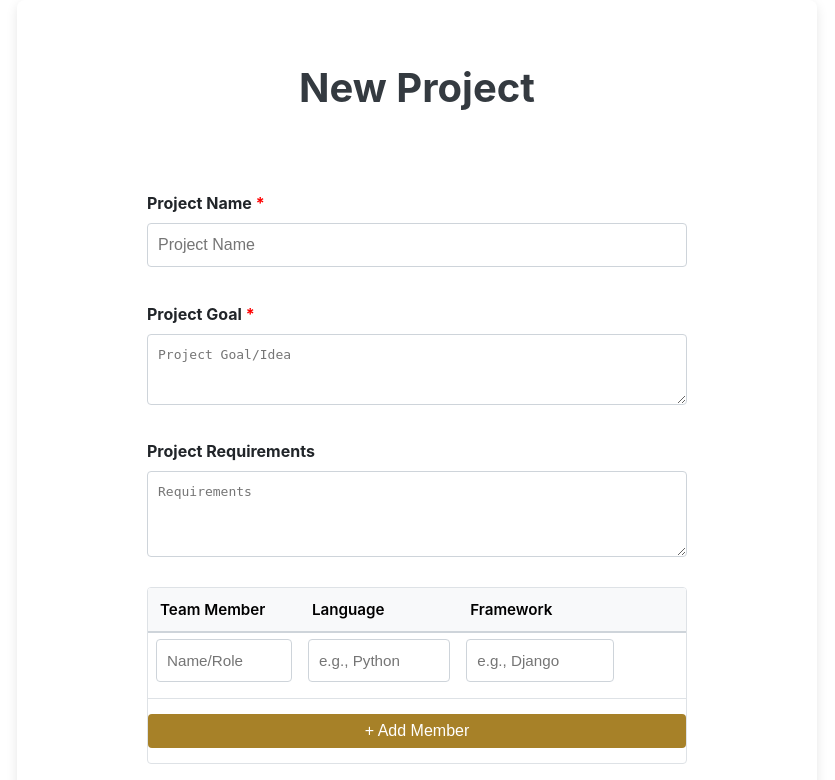
Test: can add and remove team member rows
Click the button "+ Add Member".
click(417, 731)  # box left=148, top=714, right=686, bottom=748
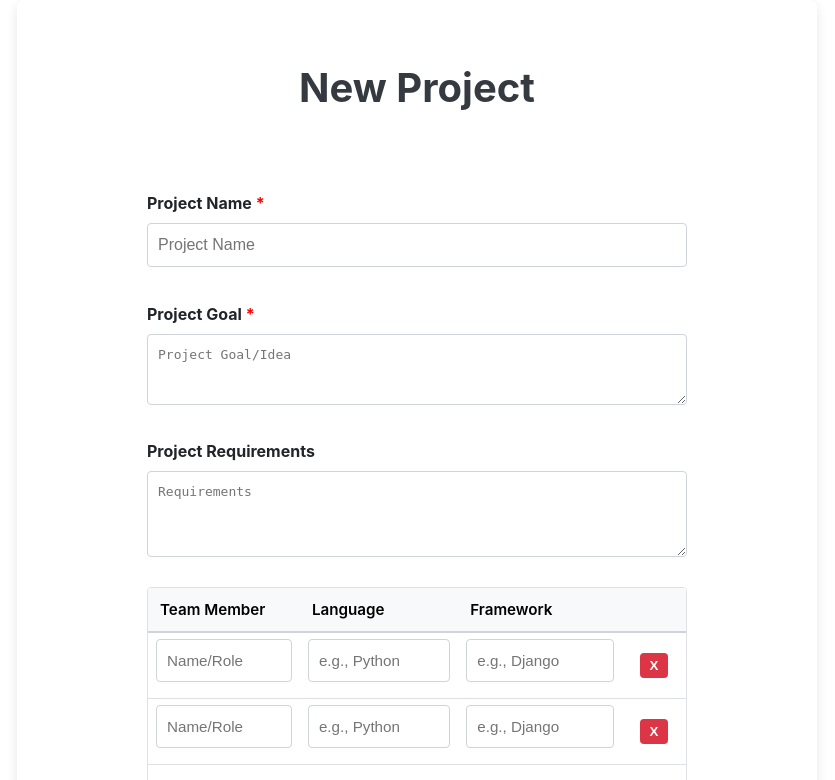
Now the number of fields with placeholder "Name/Role" is 2, box left=156, top=639, right=292, bottom=682; left=156, top=705, right=292, bottom=748
Click the 1st button "X".
click(654, 665)  # box left=640, top=653, right=668, bottom=678
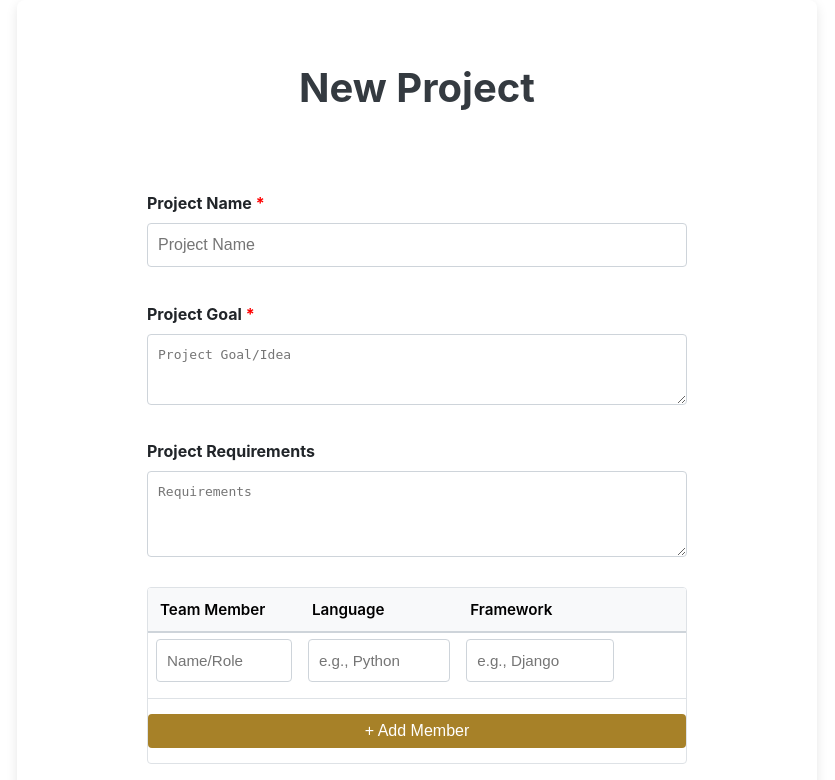
Now the number of fields with placeholder "Name/Role" is 1, box left=156, top=639, right=292, bottom=682
